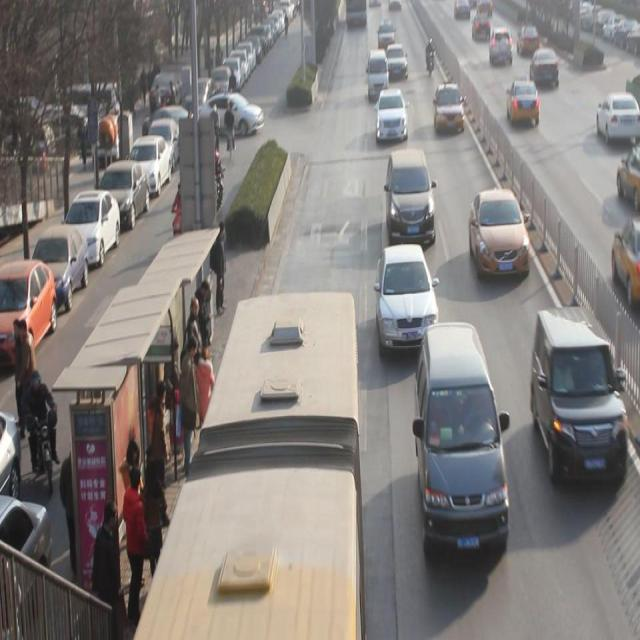car: (531, 309, 625, 485), (376, 248, 437, 353), (468, 192, 530, 282), (385, 152, 435, 245), (612, 217, 640, 309), (596, 93, 640, 146), (432, 83, 464, 137), (376, 90, 407, 143), (616, 144, 640, 211), (506, 79, 539, 127), (529, 49, 559, 91), (488, 29, 512, 68), (385, 45, 408, 83), (515, 27, 538, 58), (377, 22, 395, 54), (471, 15, 490, 43)
truck: (414, 325, 508, 559), (367, 52, 388, 104)
van: (128, 294, 361, 640)
